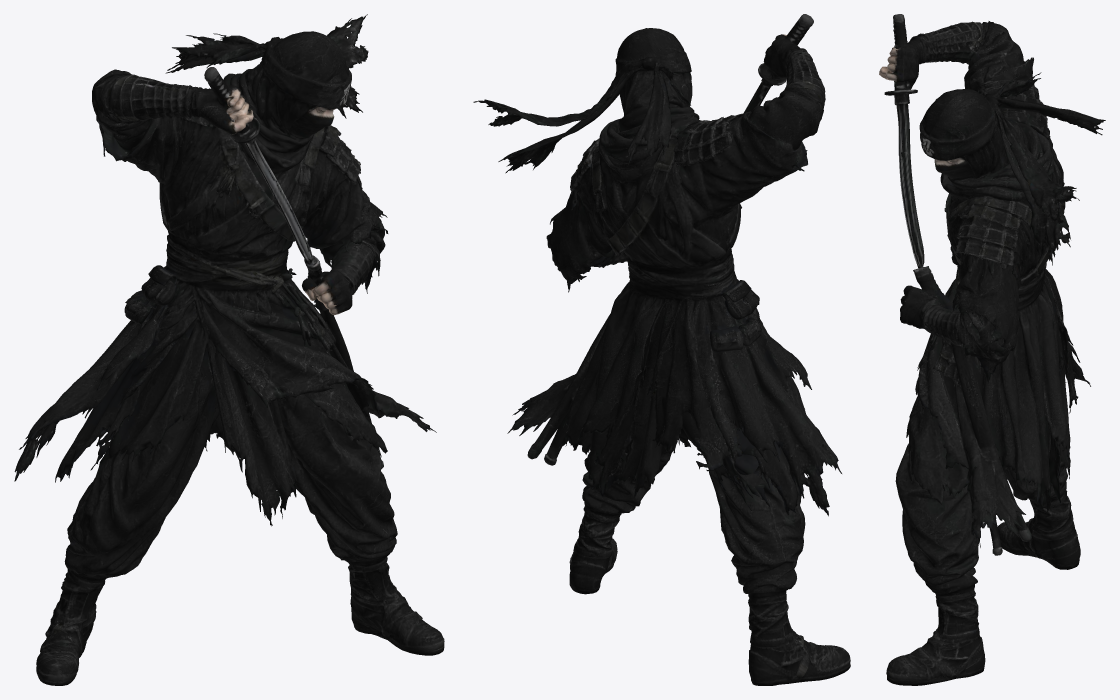
Rendered from samurai.glb.
3 views of the same model, side by side, from view 1: azimuth 30°, elevation 25°; view 2: azimuth 150°, elevation 25°; view 3: azimuth 270°, elevation 25° (orthographic). The views are drawn at different scales.
Parts seen in each view (by area): view 1: Mesh_0; view 2: Mesh_0; view 3: Mesh_0.
Boxes of the visible parts, bbox=[...] form: Mesh_0: bbox=[14, 14, 444, 685]; Mesh_0: bbox=[473, 14, 850, 685]; Mesh_0: bbox=[879, 14, 1105, 685].
Size of the model in its own units: 1.19 by 1.88 by 0.6758.
1 material, 1 textured.
